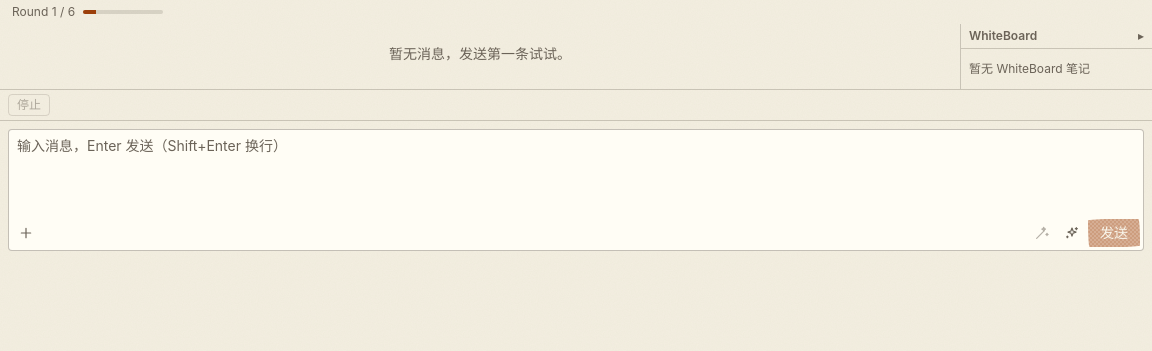
GroupConversationView — stop & failure notices (SPEC 5.8.1-5, 5.8.3) › keeps received content and flags the interruption (5.8.3-3c)
The image size is (1152, 351).
Step 1. Type "讨论" into the text box with placeholder "输入消息，Enter 发送（Shift+Enter 换行）" → point(576, 190), box top-left (8, 129), bottom-right (1144, 251)
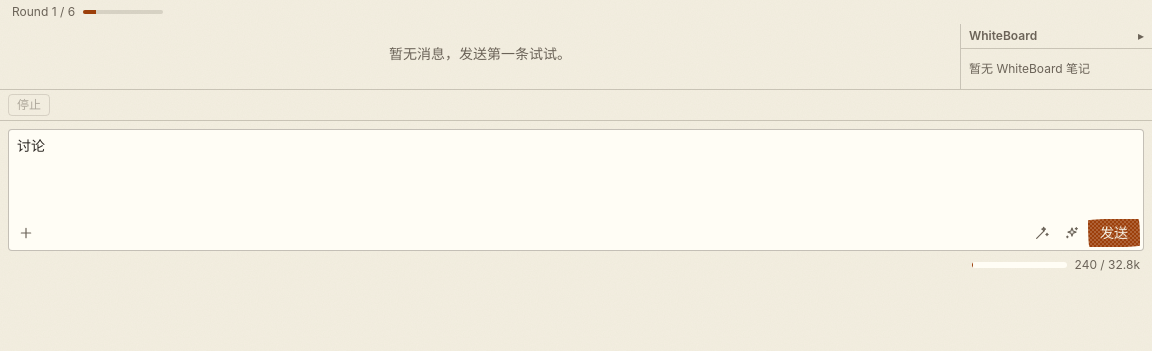
Step 2. Press Enter in the text box with placeholder "输入消息，Enter 发送（Shift+Enter 换行）", box top-left (8, 129), bottom-right (1144, 251)
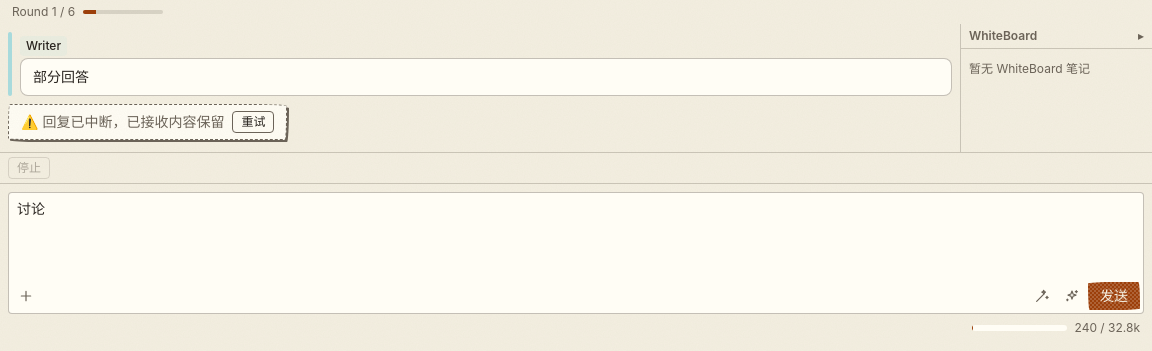
Check: the text "⚠️ 回复已中断，已接收内容保留" is shown, box top-left (21, 112), bottom-right (224, 132)
Check: the text "部分回答" is shown, box top-left (33, 68), bottom-right (89, 85)
Check: the button "重试" is shown, box top-left (232, 111), bottom-right (274, 133)
